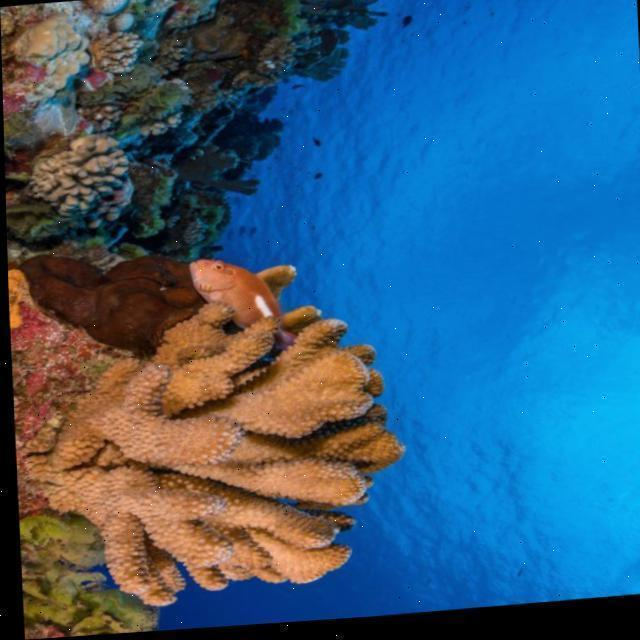Healthy Coral: (36, 294, 412, 619), (5, 0, 326, 250)
